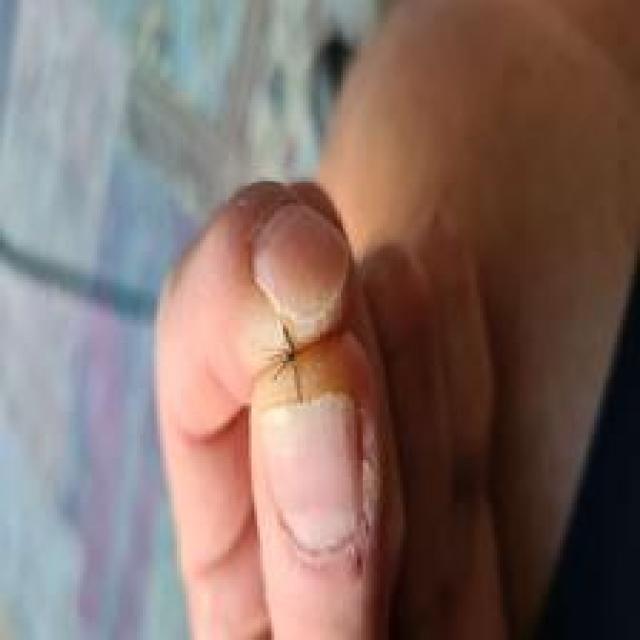Culex: (267, 322, 307, 404)
